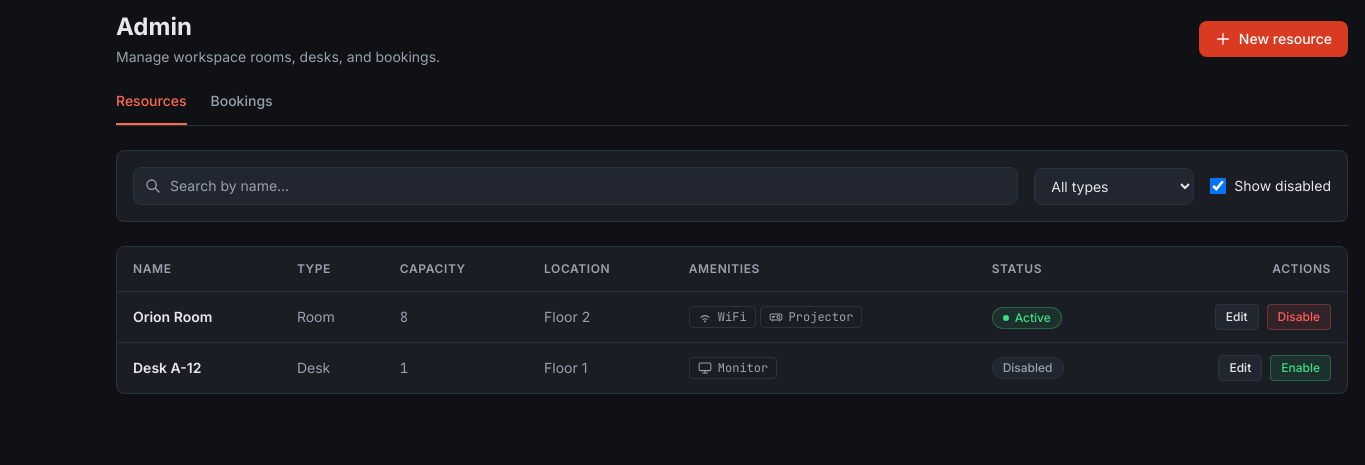
Admin Page › updates the URL when resources filters change
Select "Rooms" in the dropdown named "Filter by type" at [1114, 186], box [1034,168,1194,204]
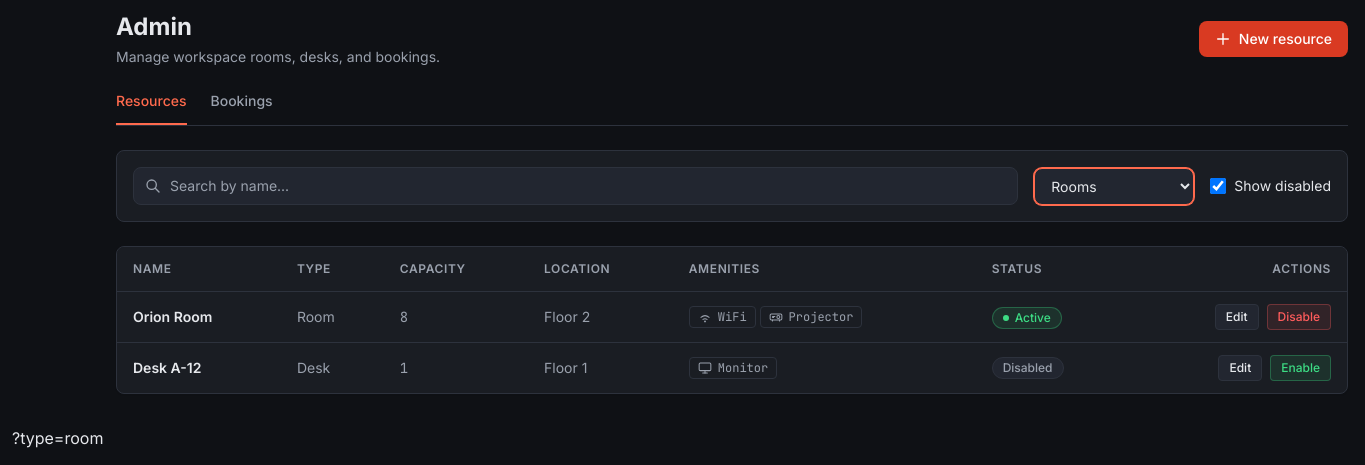
Check: the text with test id "location-display" shows "type=room", box [12,428,103,448]
Click the checkbox labelled "Show disabled" at [1218, 186], box [1210,178,1226,194]
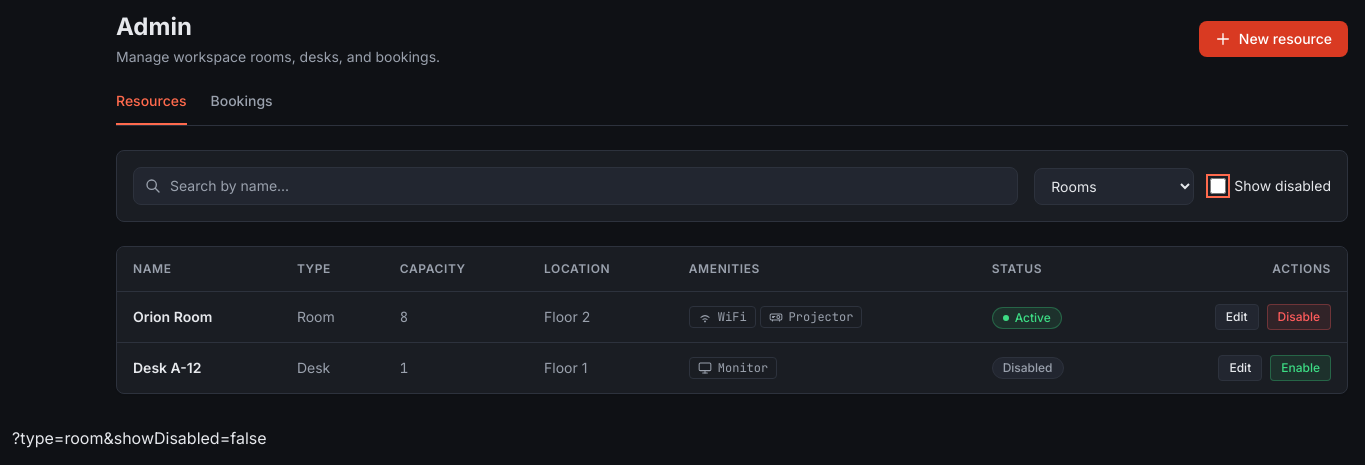
Check: the text with test id "location-display" shows "showDisabled=false", box [12,428,266,448]
Type "Orion" into the search field with placeholder "Search by name..." at [576, 186], box [133,167,1018,205]
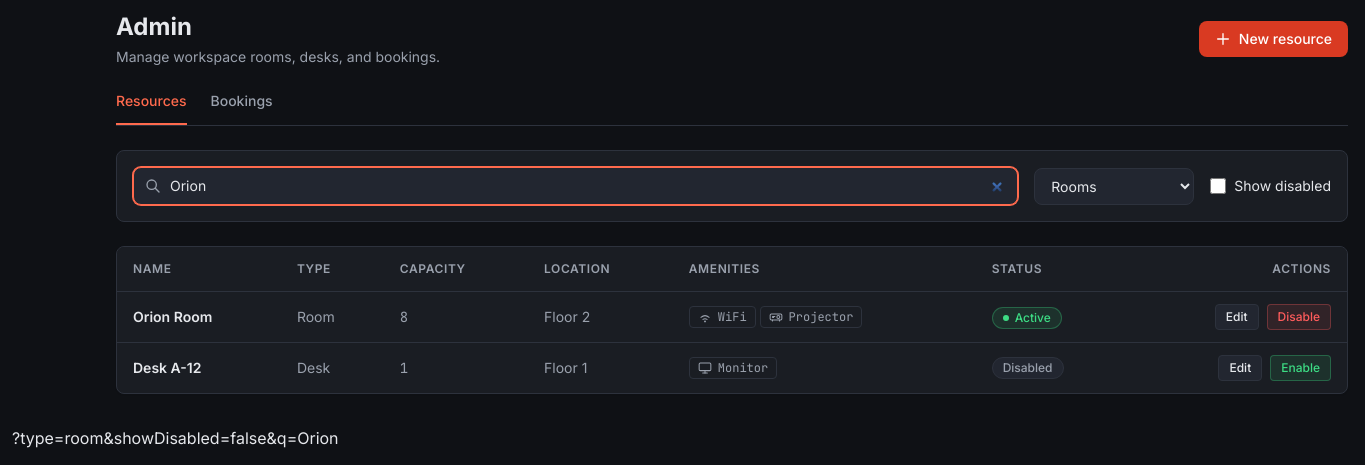
Check: the text with test id "location-display" shows "q=Orion", box [12,428,339,448]
